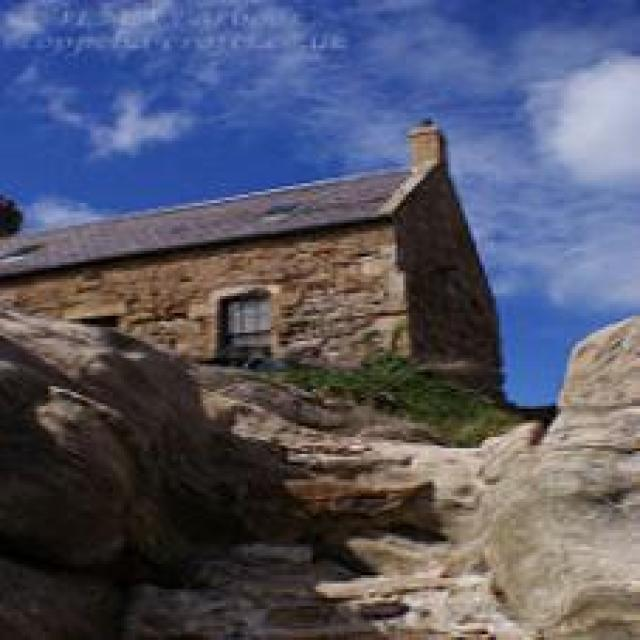upstair: (179, 410, 503, 635)
